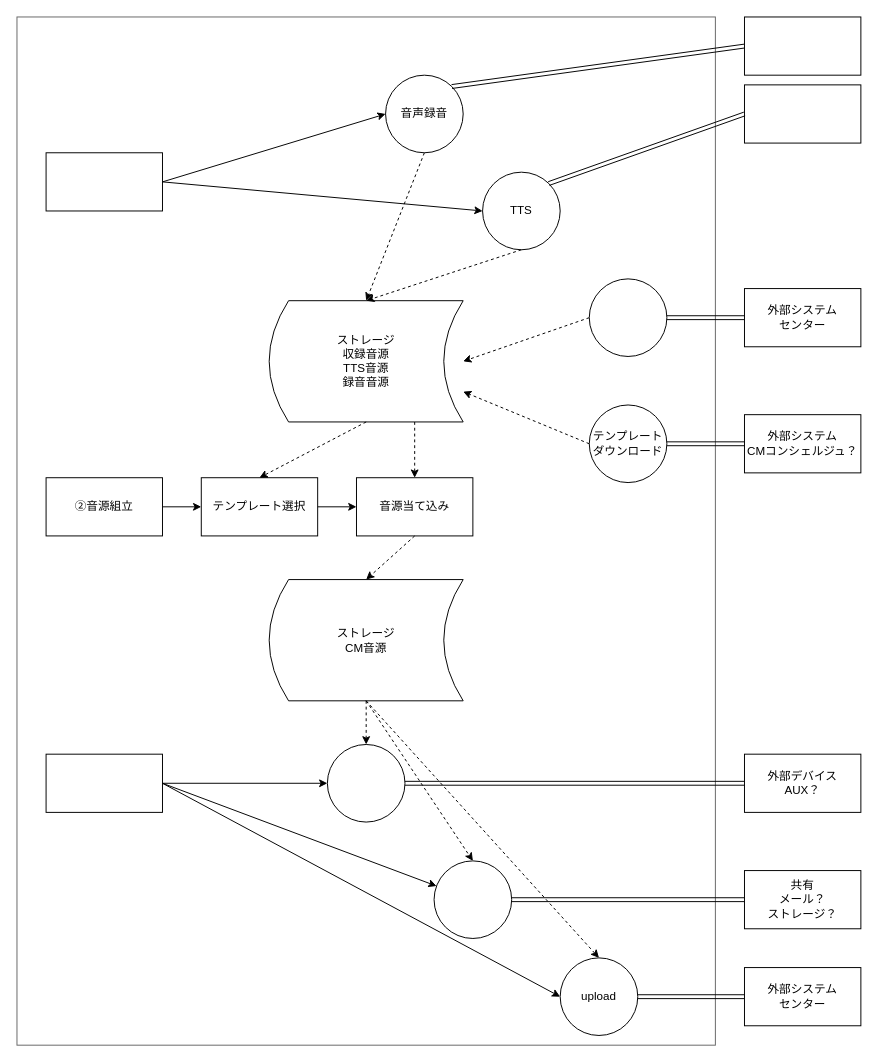
The diagram is 878 pixels wide and 1062 high, and some of its shapes have lost their labels. Here are the shapes that lost their labels. From the top down, the centre of each, then its label:
the point at 802,45: 外部入力 マイク
the point at 802,113: 外部システム TTS
the point at 103,181: ①音源作成
the point at 627,317: 収録音源 ダウンロード
the point at 103,782: ③音源出力
the point at 365,783: 再生
the point at 472,899: ファイル出力
